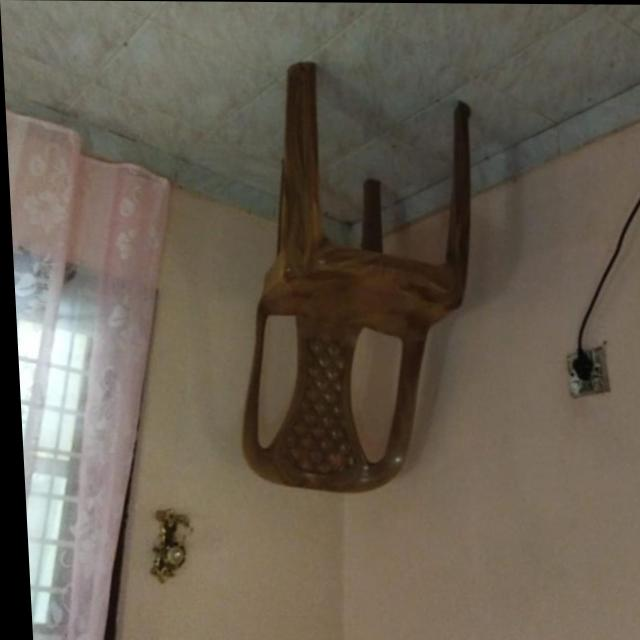Chair: (221, 60, 486, 495)
